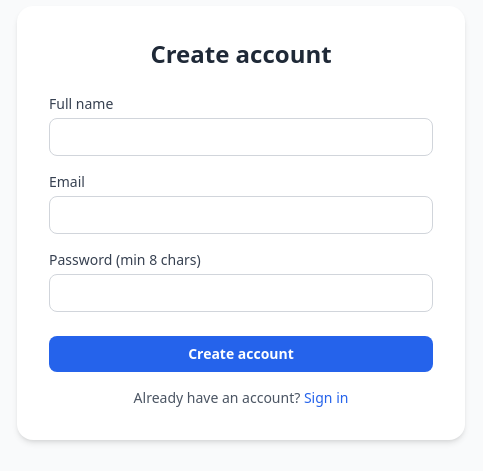
it: Register Form Validation › shows error when password is shorter than 8 characters
Type "Test User" into the field labelled "Full name".
click(241, 137); type("Test User")  # box [49,118,433,156]
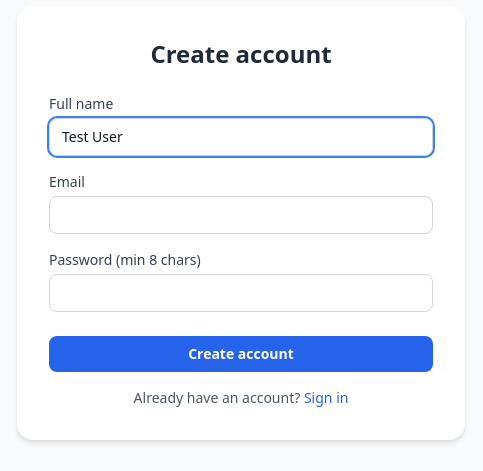
Type "test@example.com" into the field labelled "Email".
click(241, 215); type("test@example.com")  # box [49,196,433,234]
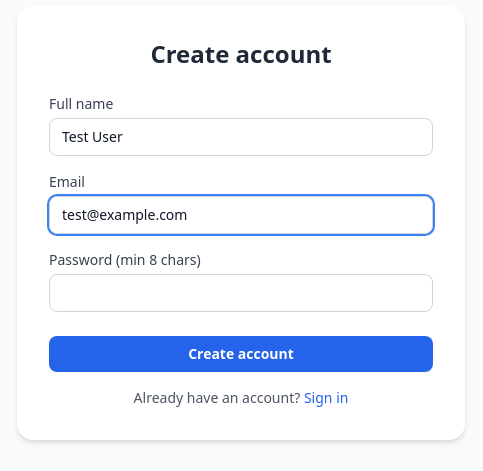
Type "short" into the password field labelled "Password (min 8 chars)".
click(241, 293); type("short")  # box [49,274,433,312]
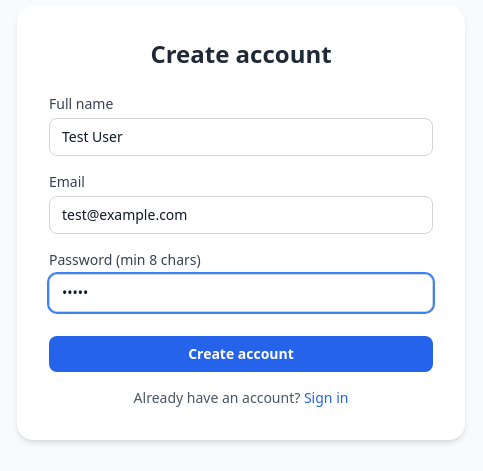
Click the button "Create account".
click(241, 354)  # box [49,336,433,372]
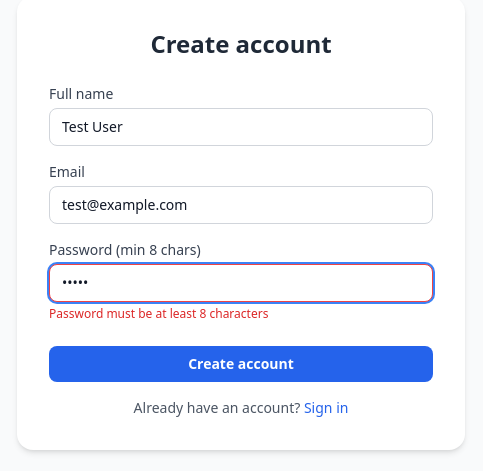
Expected: the text "Password must be at least 8 characters" is shown, [49,305,268,322]
